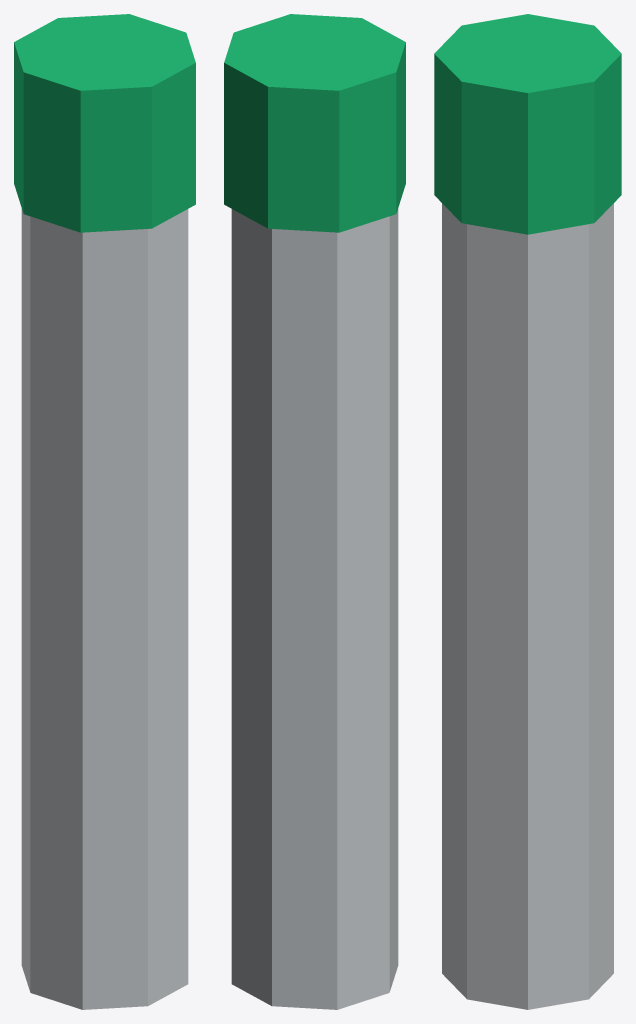
File: item_F2_Medpen.obj
3 views of the same model, side by side, from view 1: azimuth 30°, elevation 25°; view 2: azimuth 150°, elevation 25°; view 3: azimuth 270°, elevation 25° (orthographic).
Visible parts, largest first — view 1: Item_F2_Medpen, Item_F2_Medpen_Cap; view 2: Item_F2_Medpen, Item_F2_Medpen_Cap; view 3: Item_F2_Medpen, Item_F2_Medpen_Cap.
Boxes of the visible parts, x1=… form: Item_F2_Medpen: x1=21, y1=208, x2=188, y2=1009; Item_F2_Medpen_Cap: x1=14, y1=14, x2=195, y2=232; Item_F2_Medpen: x1=231, y1=208, x2=398, y2=1009; Item_F2_Medpen_Cap: x1=224, y1=14, x2=405, y2=232; Item_F2_Medpen: x1=442, y1=203, x2=613, y2=1009; Item_F2_Medpen_Cap: x1=434, y1=14, x2=621, y2=234.
Size of the model in its own units: 0.024 by 0.13 by 0.024.
